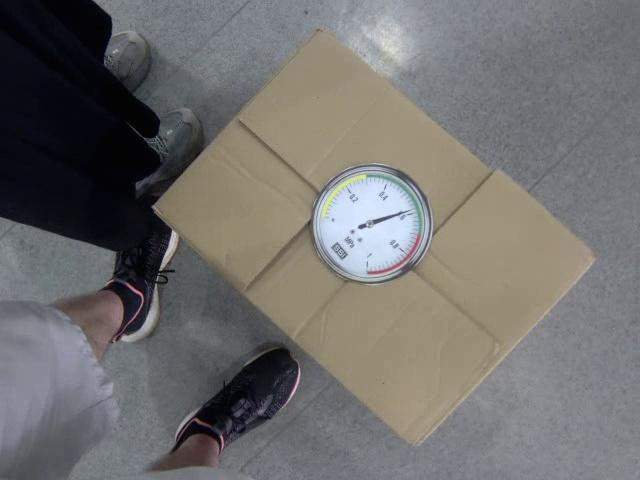Dashboard: (311, 162, 431, 286)
ssi: (332, 240, 348, 262)
